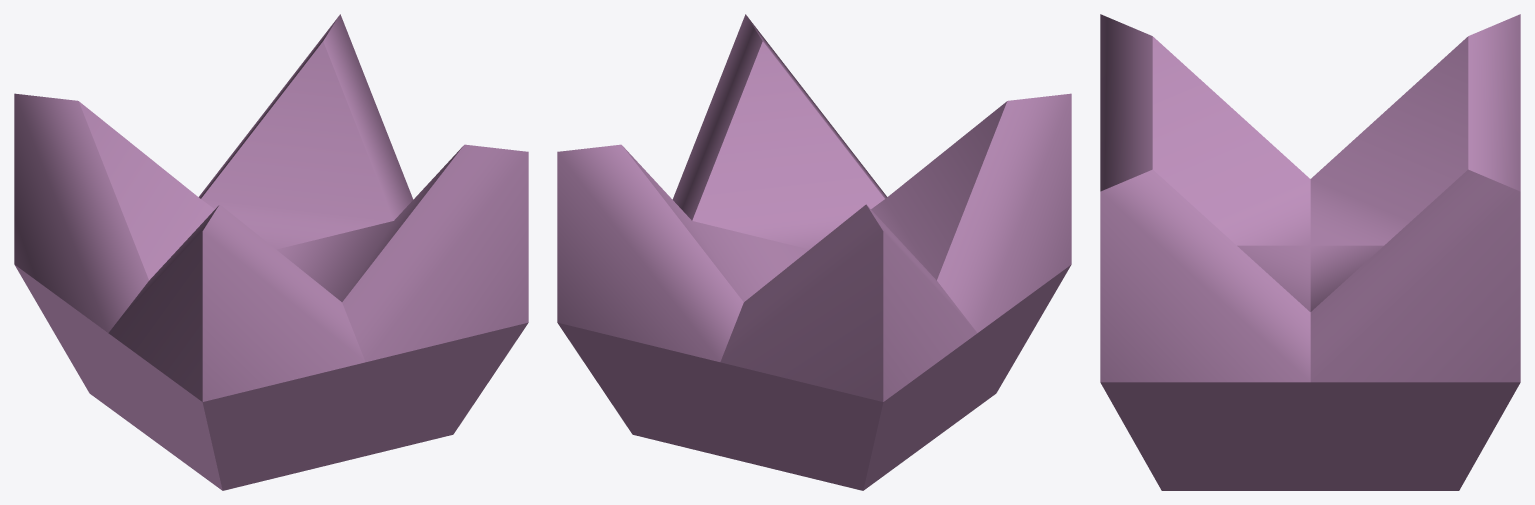
The model's file is PurpleGem.fbx.
3 renders of one model, left to right at view 1: azimuth 30°, elevation 25°; view 2: azimuth 150°, elevation 25°; view 3: azimuth 270°, elevation 25°, orthographic. The views are drawn at different scales.
Parts seen in each view (by area): view 1: MyLittleCube; view 2: MyLittleCube; view 3: MyLittleCube.
Part boxes in pixels (left/top/right/bottom): MyLittleCube: left=14, top=14, right=528, bottom=490; MyLittleCube: left=557, top=14, right=1071, bottom=490; MyLittleCube: left=1100, top=14, right=1520, bottom=490.
Size of the model in its own units: 2 by 2 by 2.
